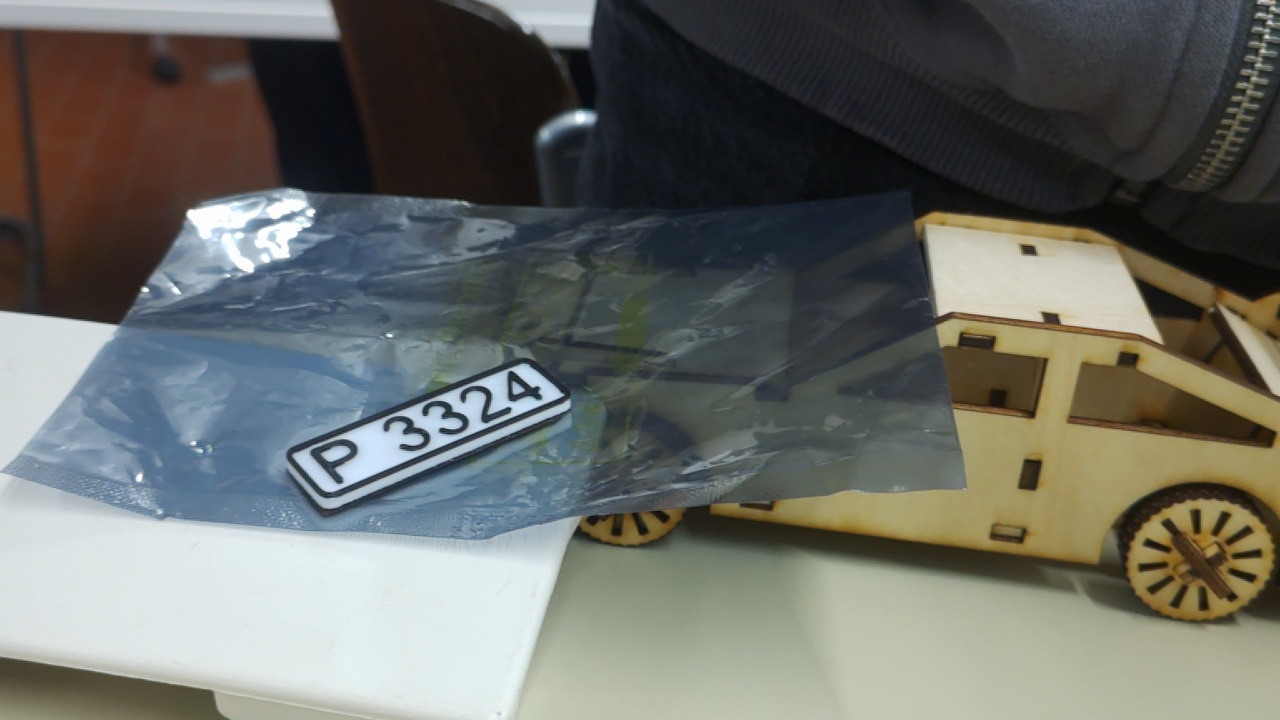license_plate: (271, 333, 579, 529)
